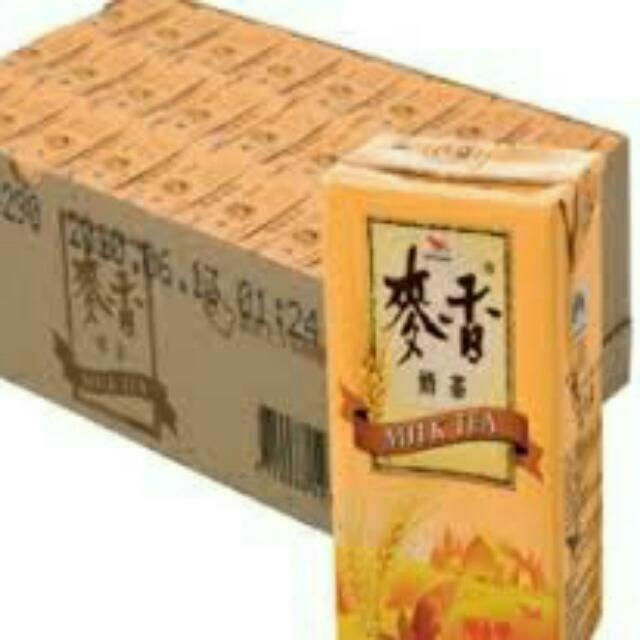milk tea: (327, 151, 608, 640)
